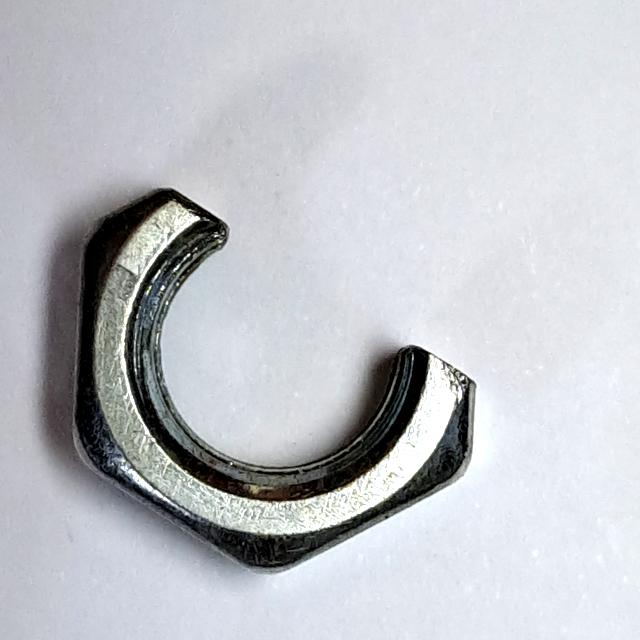Fracture: (59, 171, 491, 589)
